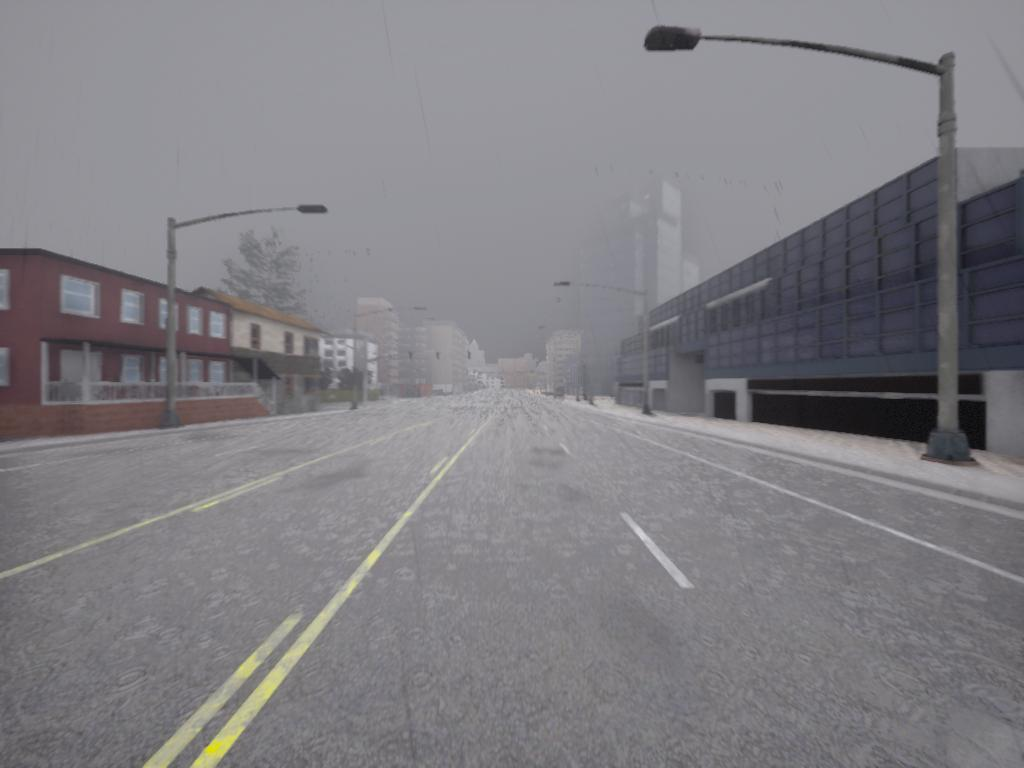traffic_light: (469, 351, 473, 362), (410, 353, 413, 363), (437, 352, 440, 362)
